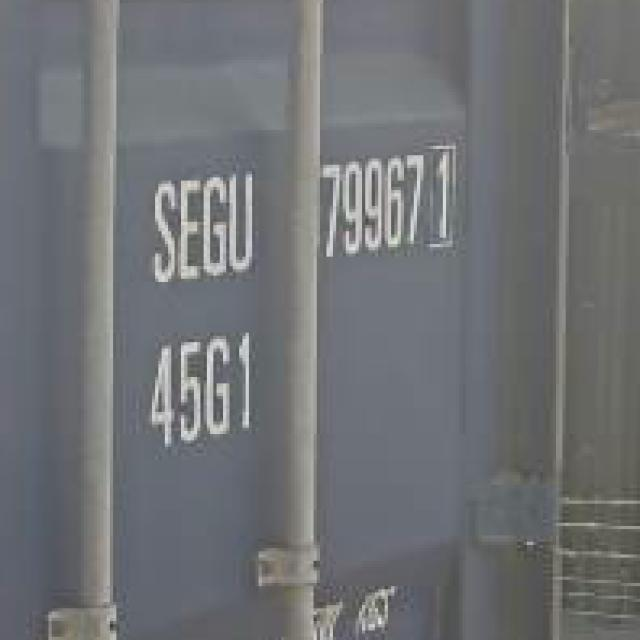dv: (426, 127, 475, 263)
owner: (131, 160, 273, 294)
serial: (306, 146, 430, 272)
size: (128, 329, 273, 457)
